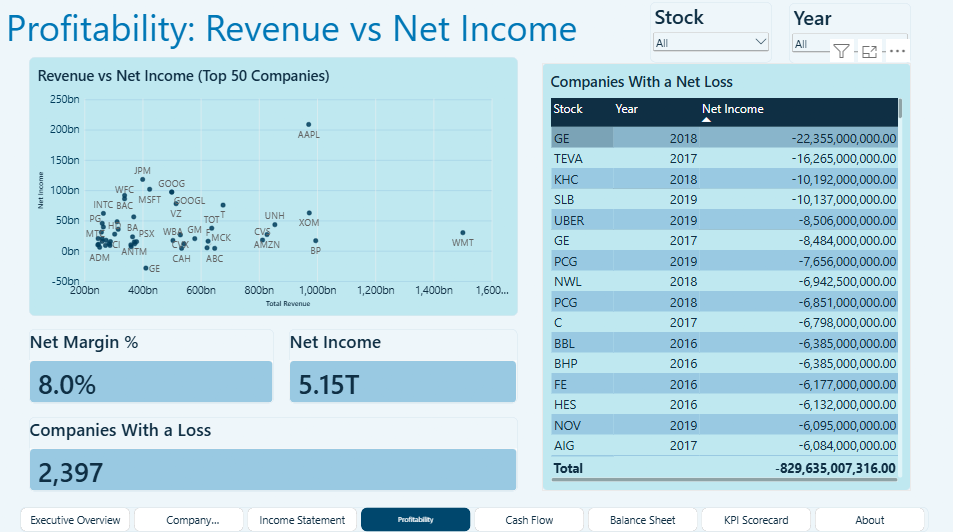

The page's visual inventory and layout, read from the dashboard file:
{"tool":"powerbi","page":{"name":"Profitability","canvas":[1920,1080],"ordinal":3},"visuals":[{"type":"textbox","box":[22.5,20.2,1196.1,110.2],"z":0},{"type":"slicer","fields":{"Values":["Dim_Date.Year"]},"box":[1588.1,21.3,244.5,121.2],"z":1000},{"type":"slicer","fields":{"Values":["Dim_Company.stock"]},"box":[1310.7,20.2,244.5,121.2],"z":2000},{"type":"cardVisual","title":"Net Income","fields":{"Data":["_Measures.Net Income"]},"box":[588.4,673.5,456.9,149.4],"z":3000},{"type":"scatterChart","title":"Revenue vs Net Income (Top 50 Companies)","fields":{"Category":["Dim_Company.Stock"],"X":["_Measures.Total Revenue"],"Y":["_Measures.Net Income"]},"box":[67.7,129.7,977.6,518.4],"z":4000},{"type":"tableEx","title":"Companies With a Net Loss","fields":{"Values":["Dim_Company.Stock","Dim_Date.Year","_Measures.Net Income"]},"box":[1094,142.8,738.1,854.6],"z":5000},{"type":"cardVisual","title":"Companies With a Loss","fields":{"Data":["_Measures.Loss Companies (Full)"]},"box":[67.7,849.7,977.6,149.4],"z":6000},{"type":"cardVisual","title":"Net Margin %","fields":{"Data":["_Measures.Net Margin %"]},"box":[67.7,673.5,489.9,149.4],"z":7000},{"type":"pageNavigator","box":[50.3,1029.7,1817.4,50.3],"z":7001}]}

Visuals, with their boxes in screenshot pixels (x1, y1, x2, y2), scaled from the page's 1920x1080 canvas onto the 953x532 screenshot:
textbox: {"left": 11, "top": 10, "right": 605, "bottom": 64}
slicer - Dim_Date.Year: {"left": 788, "top": 10, "right": 910, "bottom": 70}
slicer - Dim_Company.stock: {"left": 651, "top": 10, "right": 772, "bottom": 70}
"Net Income" cardVisual: {"left": 292, "top": 332, "right": 519, "bottom": 405}
"Revenue vs Net Income (Top 50 Companies)" scatterChart: {"left": 34, "top": 64, "right": 519, "bottom": 319}
"Companies With a Net Loss" tableEx: {"left": 543, "top": 70, "right": 909, "bottom": 491}
"Companies With a Loss" cardVisual: {"left": 34, "top": 419, "right": 519, "bottom": 492}
"Net Margin %" cardVisual: {"left": 34, "top": 332, "right": 277, "bottom": 405}
pageNavigator: {"left": 25, "top": 507, "right": 927, "bottom": 531}
